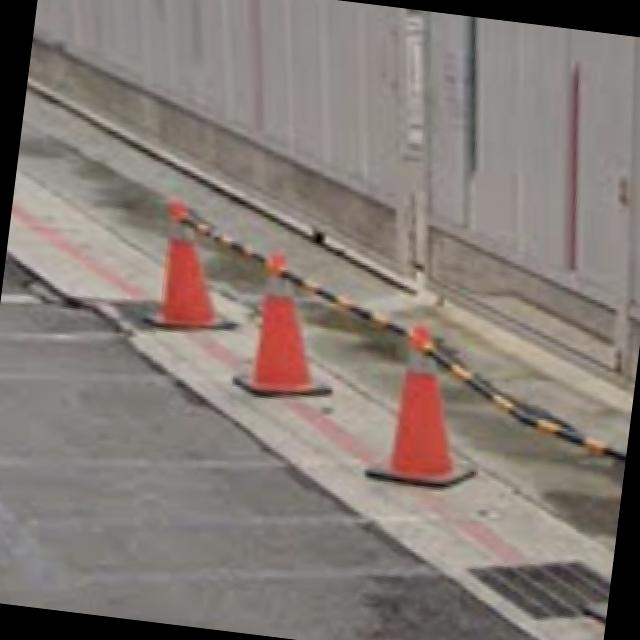cone: (362, 312, 479, 495), (229, 254, 325, 405), (144, 185, 224, 331)
